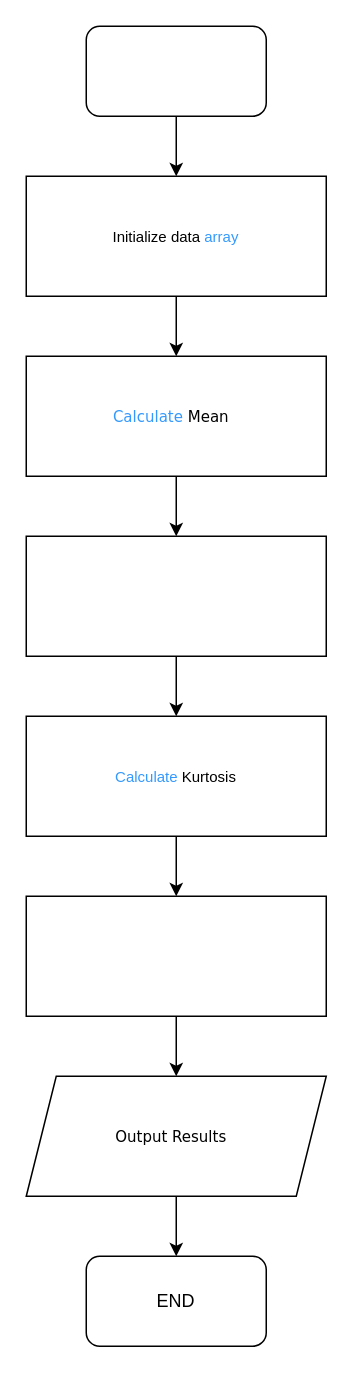
The diagram is 353 pixels wide and 1373 high, and some of its shapes have lost their labels. The shapes that lost their labels are listed below. From the top down, each one's box as (x1, y1, x2, y2) in pixels, then its label:
(85, 25, 266, 116): START
(25, 535, 326, 656): Calculate Median
(25, 895, 326, 1016): Calculate Standard Dev
